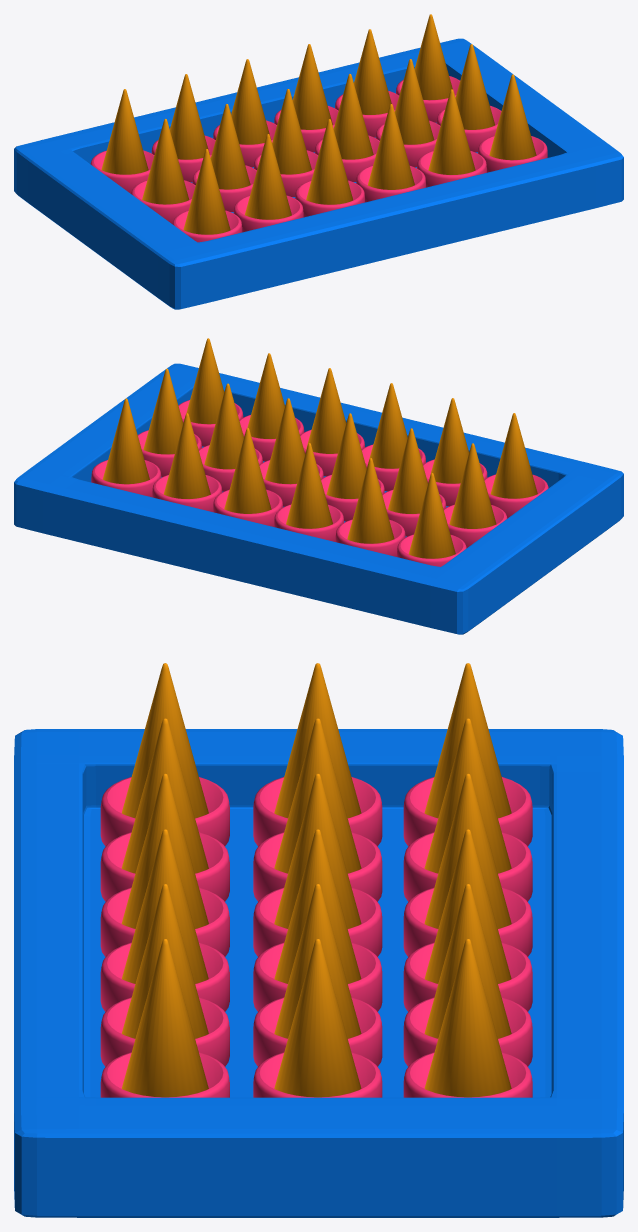
3 views of the same model, one above another, from view 1: azimuth 30°, elevation 25°; view 2: azimuth 150°, elevation 25°; view 3: azimuth 270°, elevation 25° (orthographic). The views are drawn at different scales.
Visible parts, largest first — view 1: Zemin.003, Merkez, Thorn.026, Thorn.028, Thorn.017, Thorn.011, Thorn.023, Thorn.027, Thorn.025, Thorn.024, Thorn.020, Thorn.019 (+8 smaller); view 2: Zemin.003, Merkez, Thorn.014, Thorn.023, Thorn.016, Thorn.011, Thorn.017, Thorn.013, Thorn.012, Thorn.015, Thorn.020, Thorn.018 (+8 smaller); view 3: Zemin.003, Merkez, Thorn.016, Thorn.022, Thorn.028, Thorn.019, Thorn.013, Thorn.025, Thorn.018, Thorn.012, Thorn.011, Thorn.017 (+8 smaller).
Part boxes in pixels (<box>): Zemin.003: <box>14,38,623,309</box>; Merkez: <box>90,76,547,242</box>; Thorn.026: <box>367,104,414,189</box>; Thorn.028: <box>489,74,536,160</box>; Thorn.017: <box>142,118,189,204</box>; Thorn.011: <box>101,89,148,174</box>; Thorn.023: <box>183,149,230,234</box>; Thorn.027: <box>428,89,475,174</box>; Thorn.025: <box>306,119,352,204</box>; Thorn.024: <box>245,134,291,219</box>; Thorn.020: <box>333,74,373,159</box>; Thorn.019: <box>272,89,311,174</box>; Zemin.003: <box>14,363,623,634</box>; Merkez: <box>91,400,548,566</box>; Thorn.014: <box>224,428,271,513</box>; Thorn.023: <box>490,413,537,498</box>; Thorn.016: <box>102,398,149,484</box>; Thorn.011: <box>408,473,455,558</box>; Thorn.017: <box>449,443,496,528</box>; Thorn.013: <box>286,443,332,528</box>; Thorn.012: <box>347,458,394,543</box>; Thorn.015: <box>163,413,210,498</box>; Thorn.020: <box>265,398,305,484</box>; Thorn.018: <box>388,428,427,513</box>; Zemin.003: <box>14,729,623,1217</box>; Merkez: <box>100,777,532,1097</box>; Thorn.016: <box>424,939,511,1097</box>; Thorn.022: <box>274,939,361,1097</box>; Thorn.028: <box>121,939,208,1097</box>; Thorn.019: <box>274,773,361,928</box>; Thorn.013: <box>424,773,511,928</box>; Thorn.025: <box>121,773,208,928</box>; Thorn.018: <box>274,718,361,873</box>; Thorn.012: <box>424,718,511,873</box>; Thorn.011: <box>424,663,511,818</box>; Thorn.017: <box>274,663,361,818</box>.
Size of the model in its own units: 40.26 by 9.88 by 25.48.
